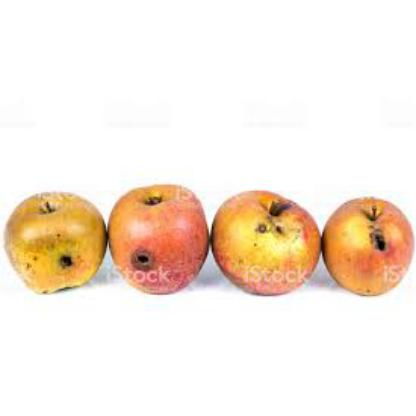damaged_apple: (104, 174, 212, 294), (211, 187, 318, 295), (8, 184, 108, 284), (320, 196, 412, 296)
